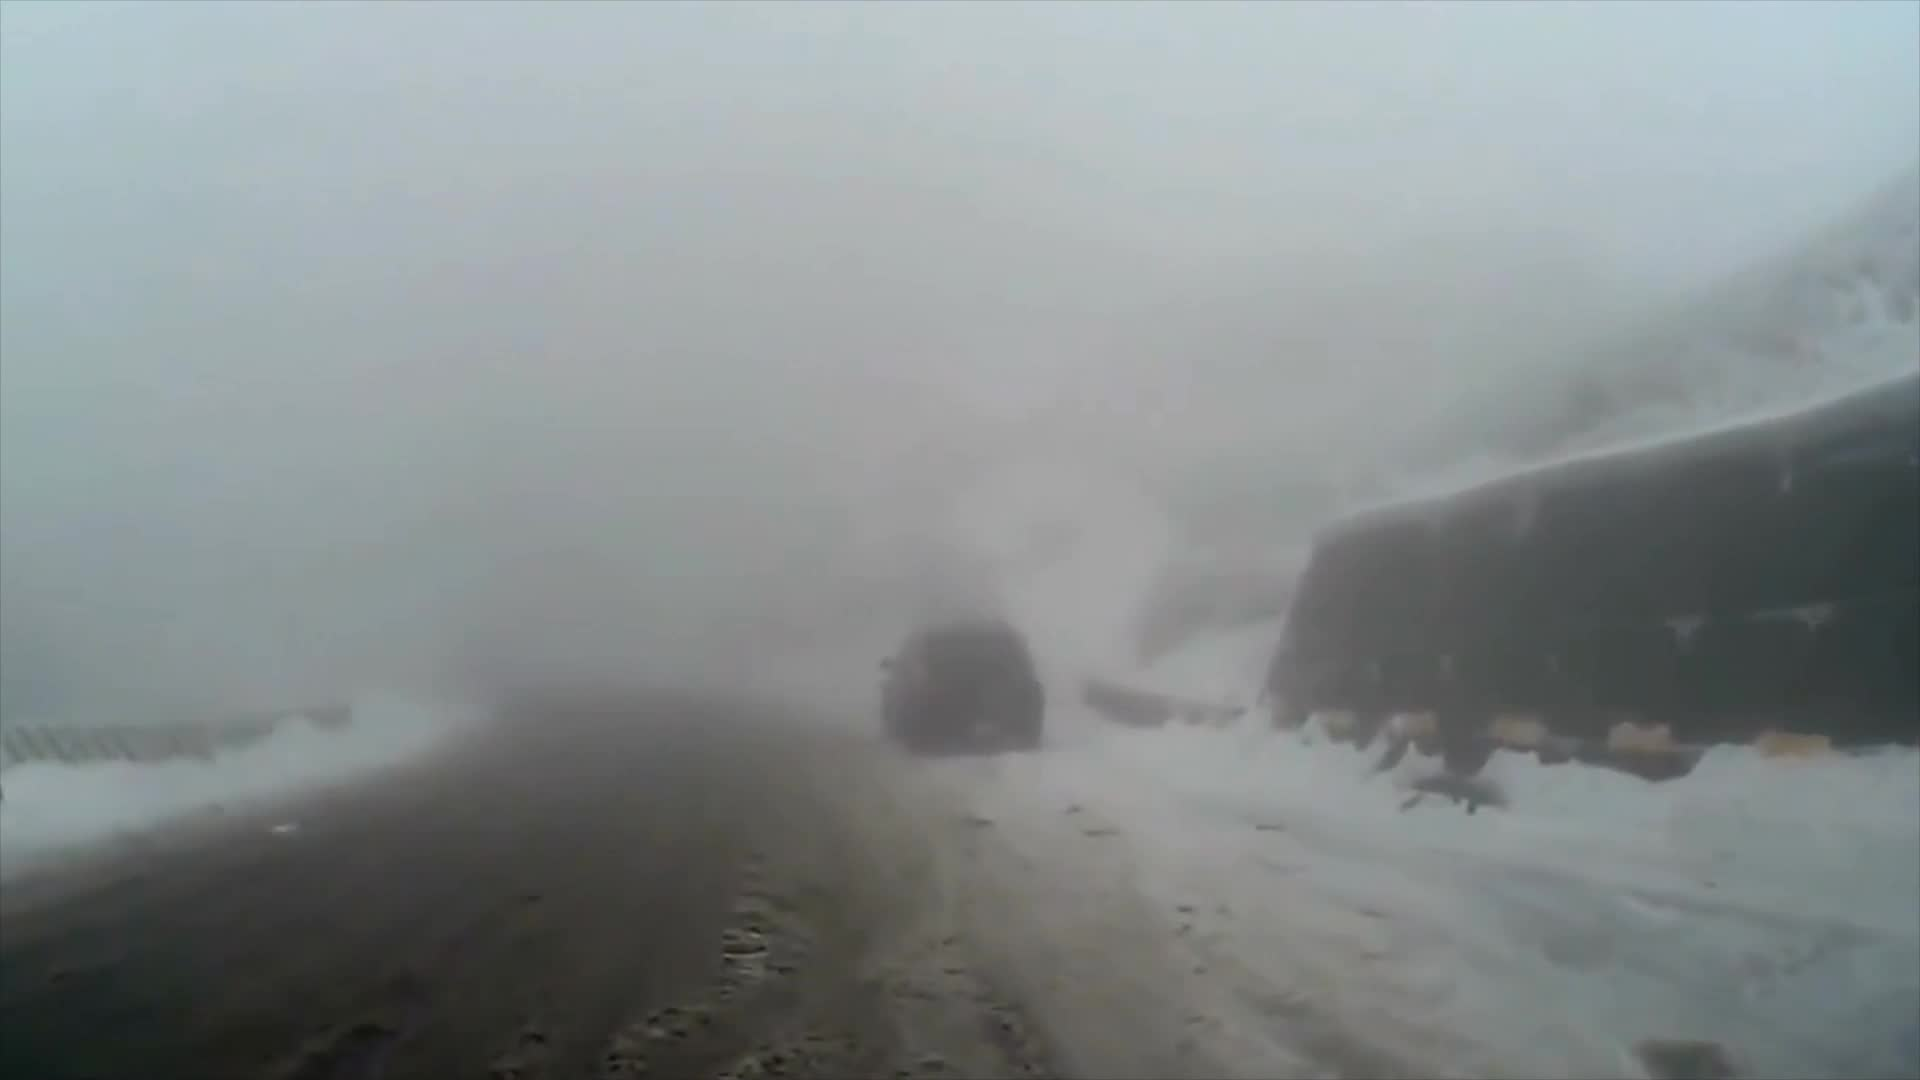vehicle: (876, 613, 1043, 756)
